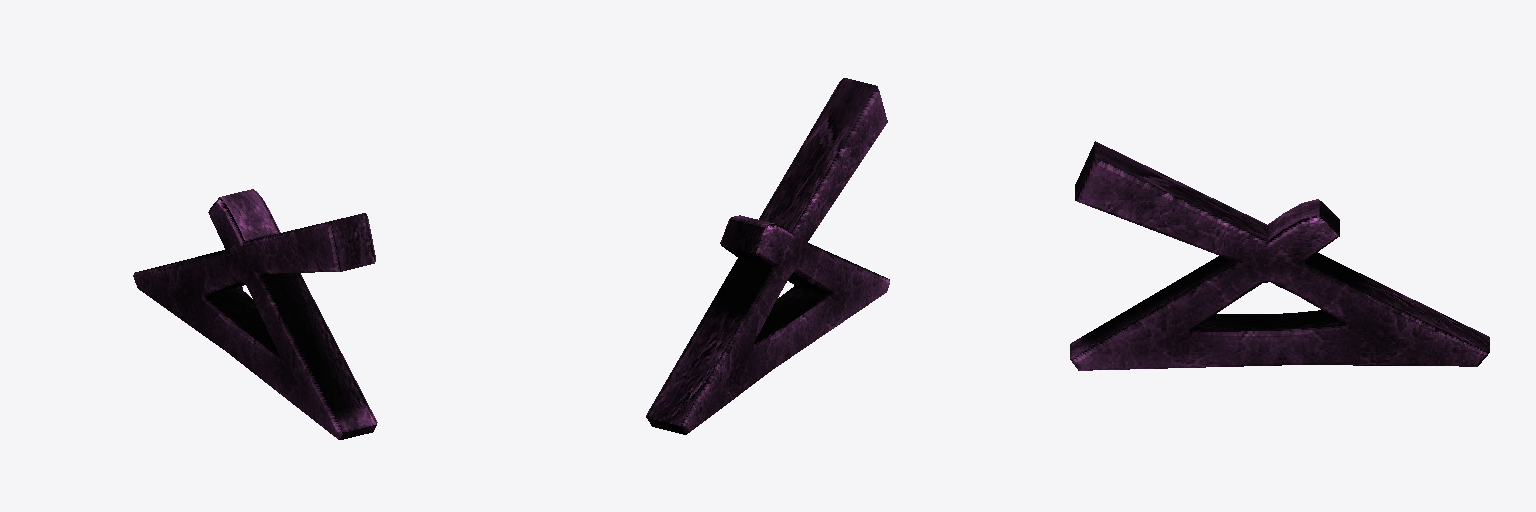
The picture shows the model from 3 angles: view 1: azimuth 30°, elevation 25°; view 2: azimuth 150°, elevation 25°; view 3: azimuth 270°, elevation 25°; orthographic projection.
Bounding box in the file's own units: 3 × 15.02 × 26.72.
1 materials, 1 textured.